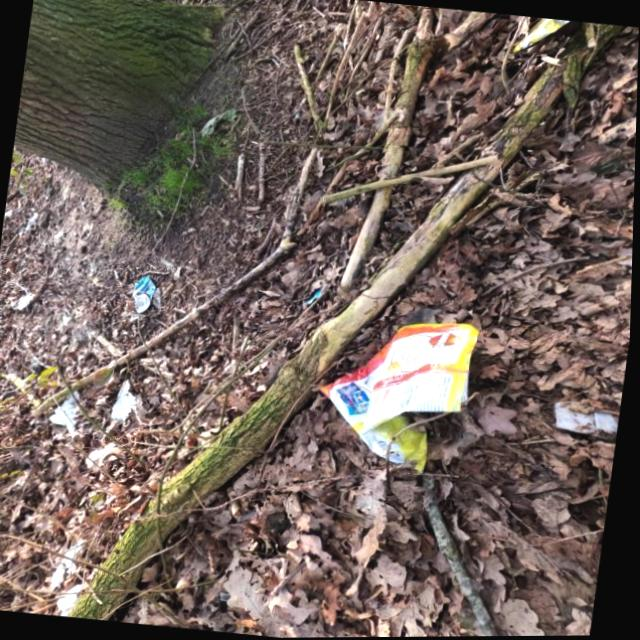Can-Metal: (127, 274, 159, 315)
Plastic: (309, 310, 482, 477)
